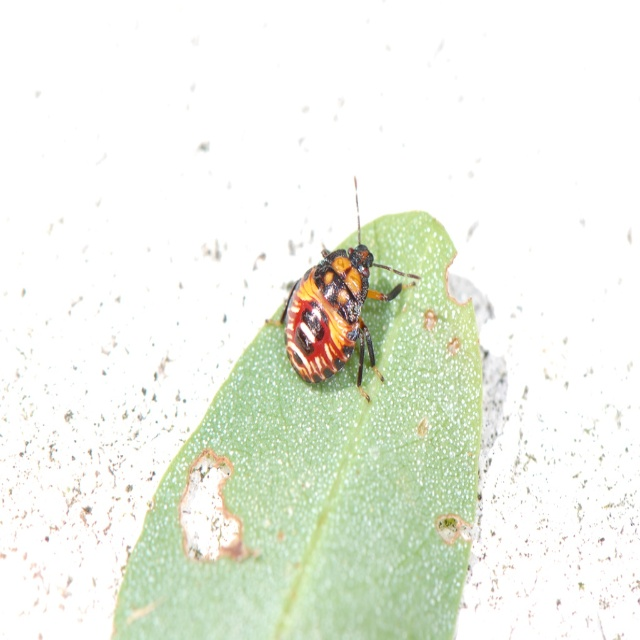Ladybug: (264, 173, 422, 403)
